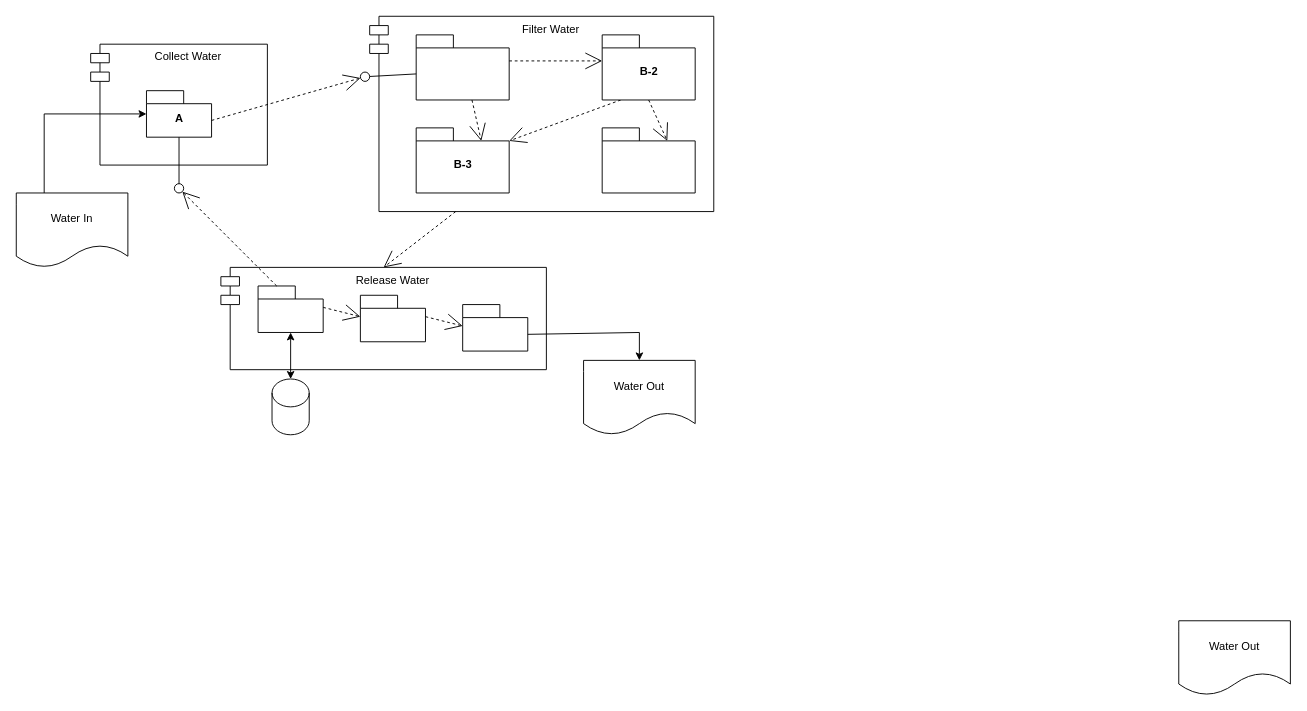
This 1307x711 diagram has some shape labels left out. The centre of each missing label's shape, as x and y in pixels:
"B-1" goes at pixel 462 67.
"B-4" goes at pixel 648 160.
"C-1" goes at pixel 290 308.
"C-2" goes at pixel 392 318.
"C-3" goes at pixel 495 327.
